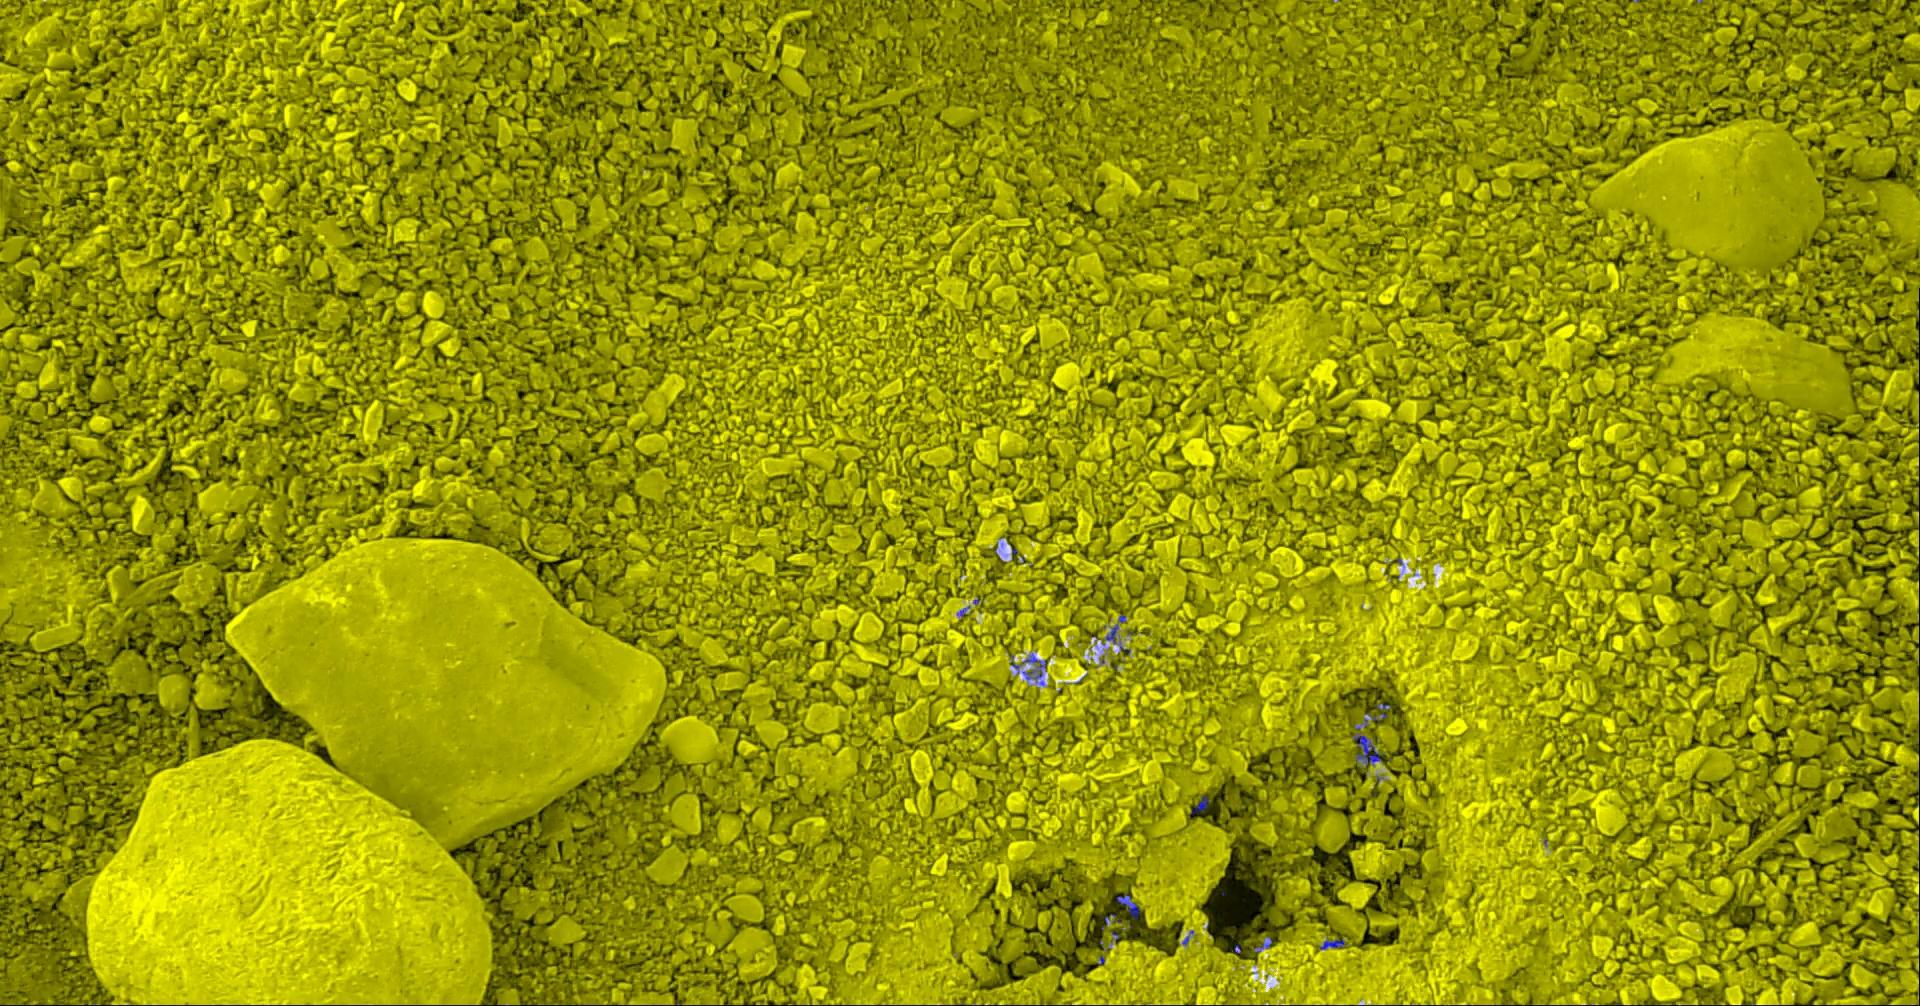ant: (1010, 653, 1045, 683), (1352, 734, 1383, 766), (1105, 614, 1125, 643), (1116, 894, 1139, 918), (1191, 795, 1209, 815), (1319, 937, 1345, 949), (1375, 702, 1390, 718)
